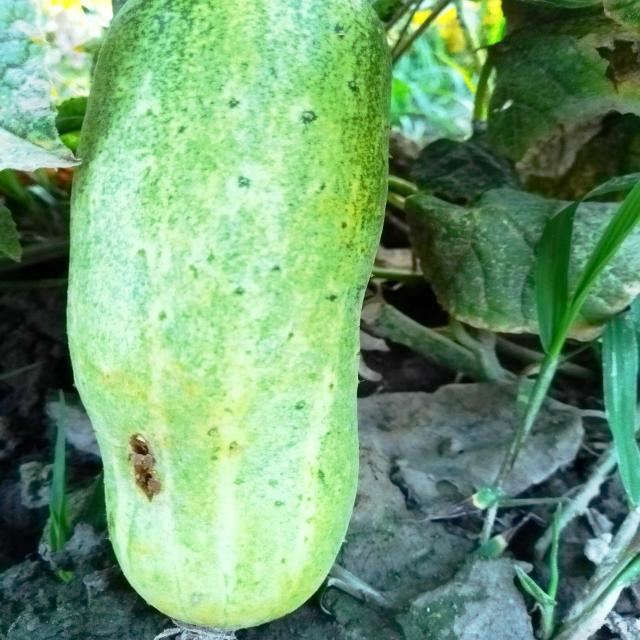Anthracnose: (120, 428, 167, 514)
